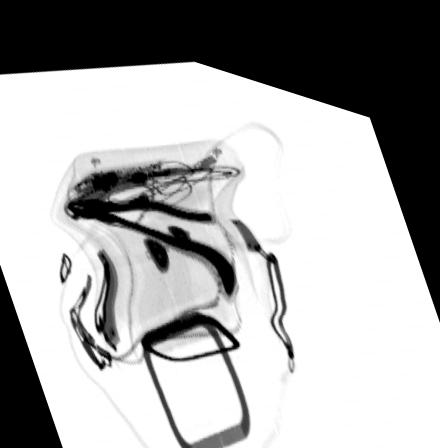Pliers: (65, 188, 238, 288)
